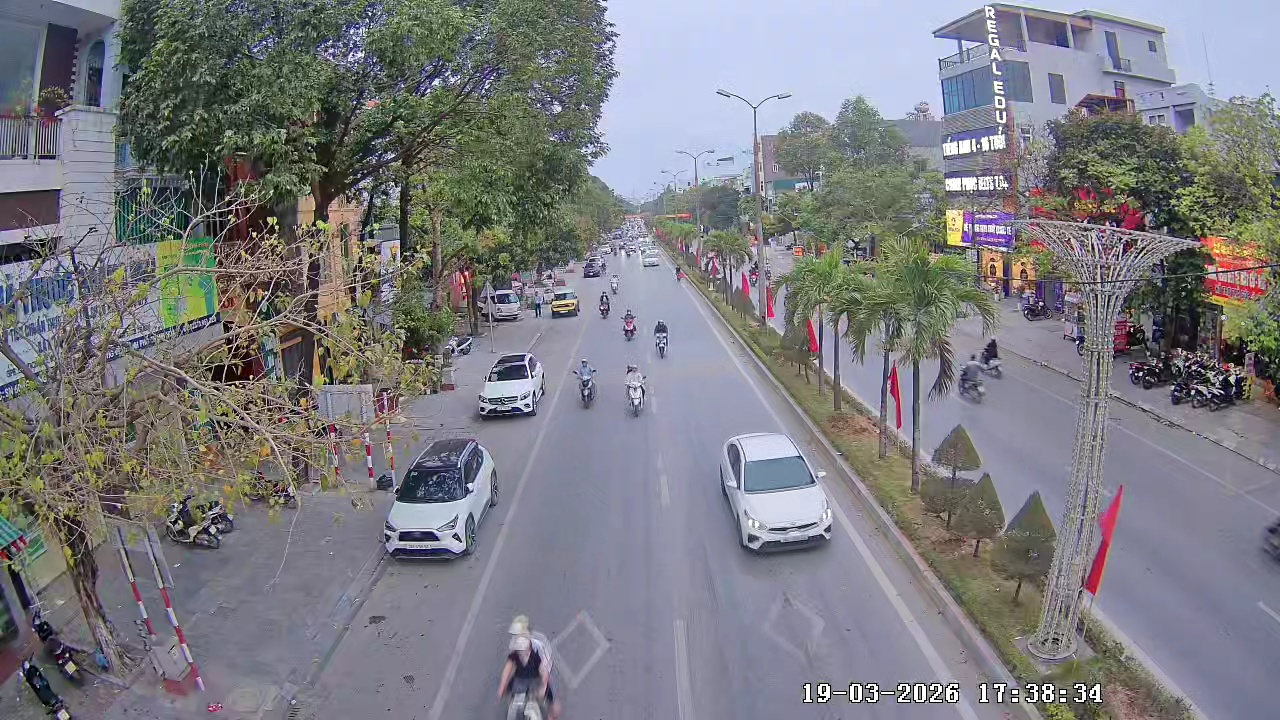car: (382, 436, 501, 560), (717, 431, 832, 551), (476, 352, 546, 418), (550, 289, 580, 317)
motorbike: (494, 614, 561, 719), (623, 361, 649, 418), (574, 357, 600, 410), (958, 358, 986, 403), (981, 338, 1002, 379), (652, 318, 671, 359), (621, 309, 637, 339), (597, 292, 612, 320), (609, 273, 620, 292)
